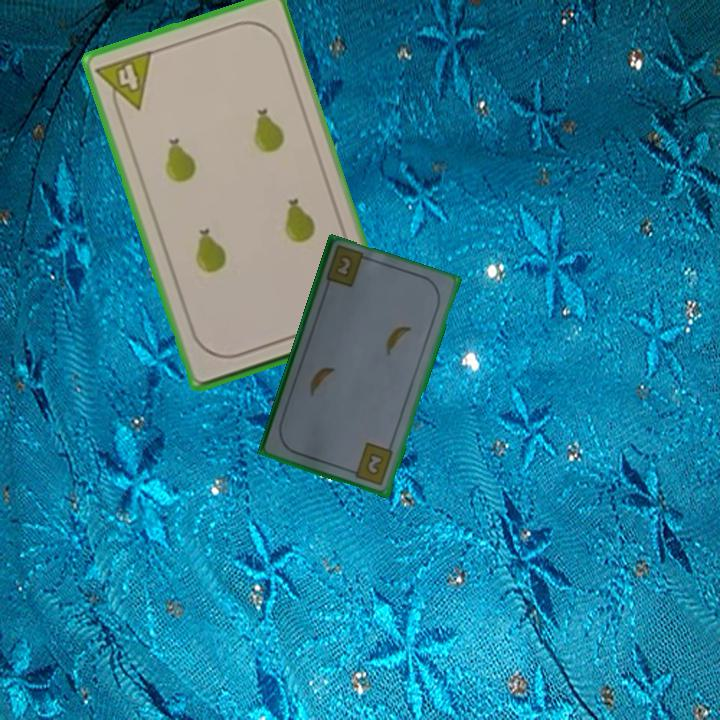2b: (347, 440, 396, 489), (332, 254, 354, 280)
4p: (92, 46, 155, 119)
